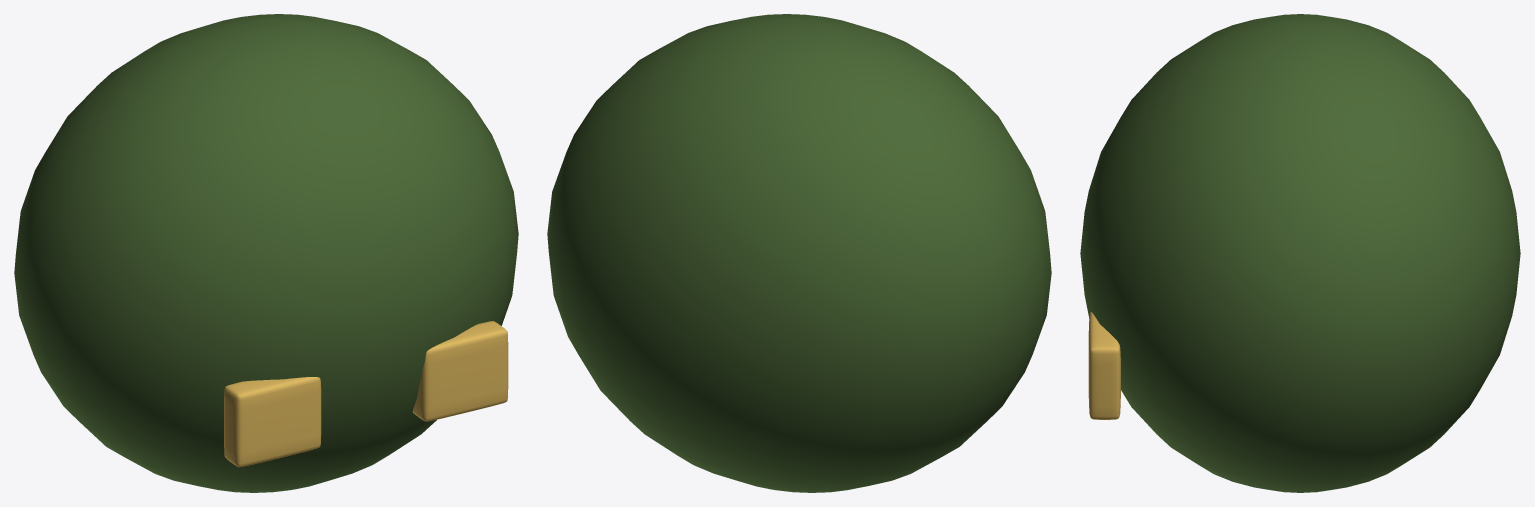
The model's file is coat_vest.glb.
3 renders of one model, left to right at view 1: azimuth 30°, elevation 25°; view 2: azimuth 150°, elevation 25°; view 3: azimuth 270°, elevation 25°, orthographic.
Parts seen in each view (by area): view 1: vest, pocket, pocket.001; view 2: vest; view 3: vest, pocket.001.
Part boxes in pixels (box(x1,y1,x2,y2)): vest: box(14, 14, 518, 492); pocket: box(224, 377, 321, 467); pocket.001: box(413, 321, 508, 421); vest: box(547, 14, 1051, 492); vest: box(1080, 14, 1520, 492); pocket.001: box(1088, 311, 1120, 419).
Bounding box in the file's own units: 0.63 × 0.58 × 0.54.
